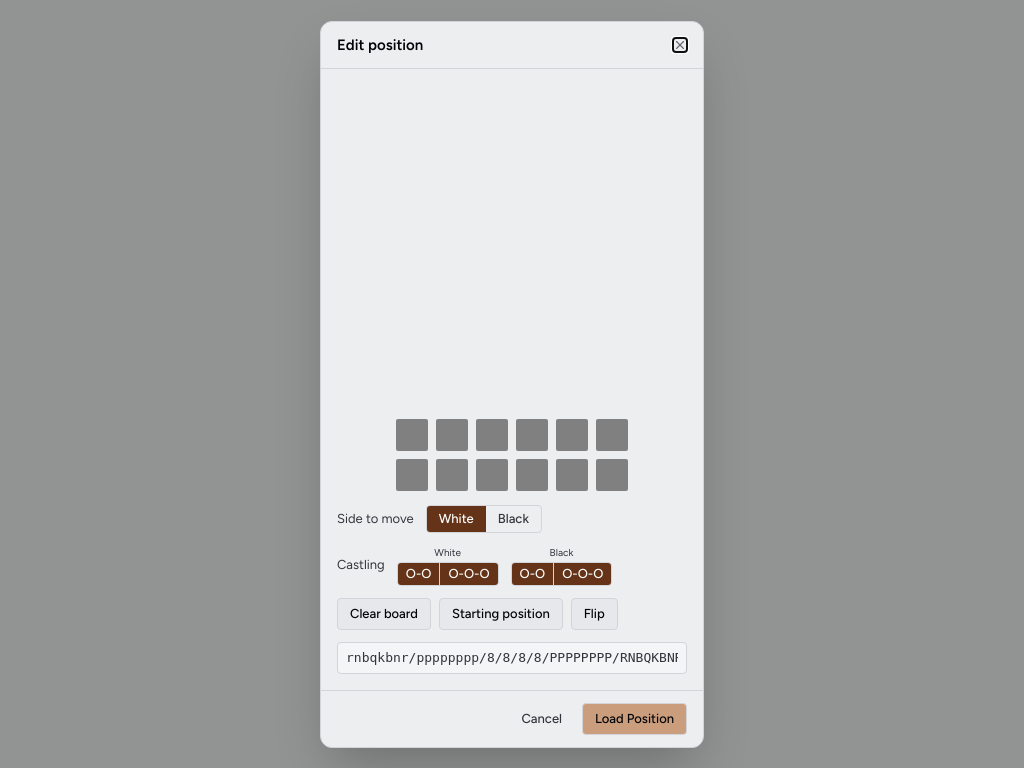
Test: PositionEditor › shows error and does not load for invalid position
This screenshot has width=1024, height=768.
Click the button "Load Position" at (634, 718), box [582,702,687,734]
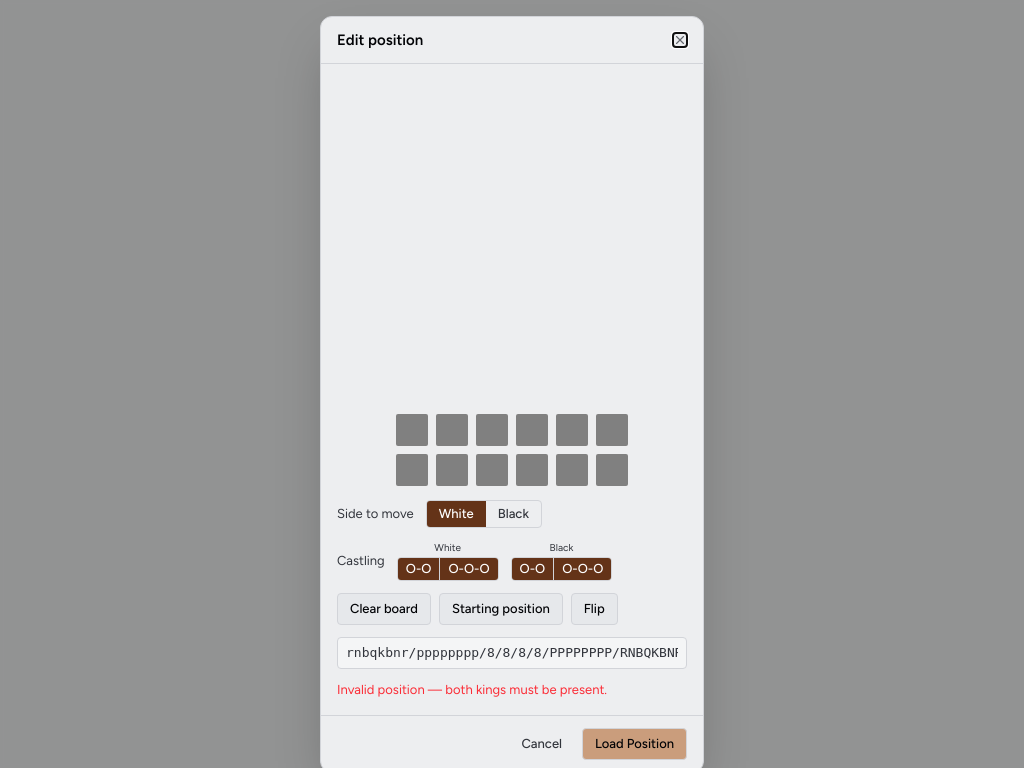
Result: the text "Invalid position — both kings must be present." is shown at [337,682,607,697]
